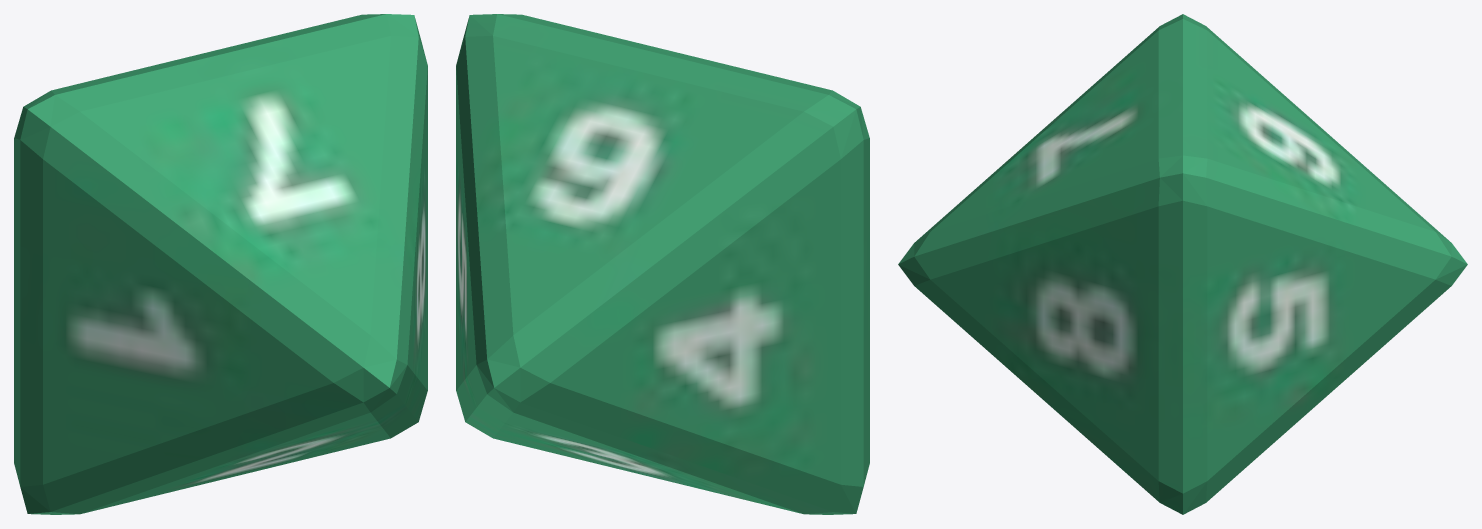
The picture shows the model from 3 angles, left to right: view 1: azimuth 30°, elevation 25°; view 2: azimuth 150°, elevation 25°; view 3: azimuth 270°, elevation 25°; orthographic projection. The views are drawn at different scales.
Parts seen in each view (by area): view 1: d8.obj; view 2: d8.obj; view 3: d8.obj.
Part boxes in pixels (<box>): d8.obj: <box>14,14,427,514</box>; d8.obj: <box>456,14,869,514</box>; d8.obj: <box>898,14,1467,514</box>.
Size of the model in its own units: 0.6867 by 0.6867 by 1.
1 material, 1 textured.
